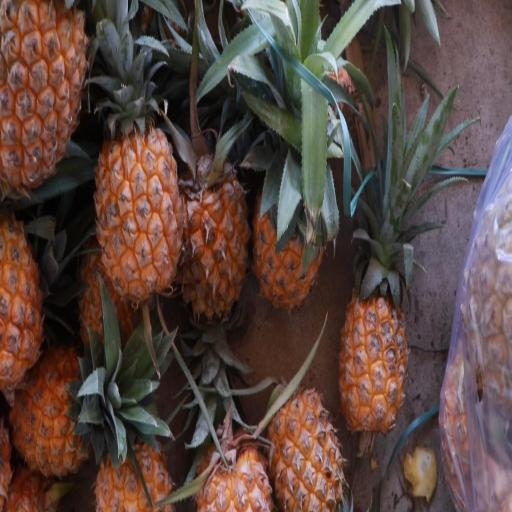Pineapple - v8 v1: (93, 89, 188, 311), (8, 336, 146, 484), (0, 0, 96, 208), (332, 248, 411, 438), (179, 125, 254, 321), (250, 142, 329, 318), (262, 383, 346, 511), (0, 209, 53, 399)
